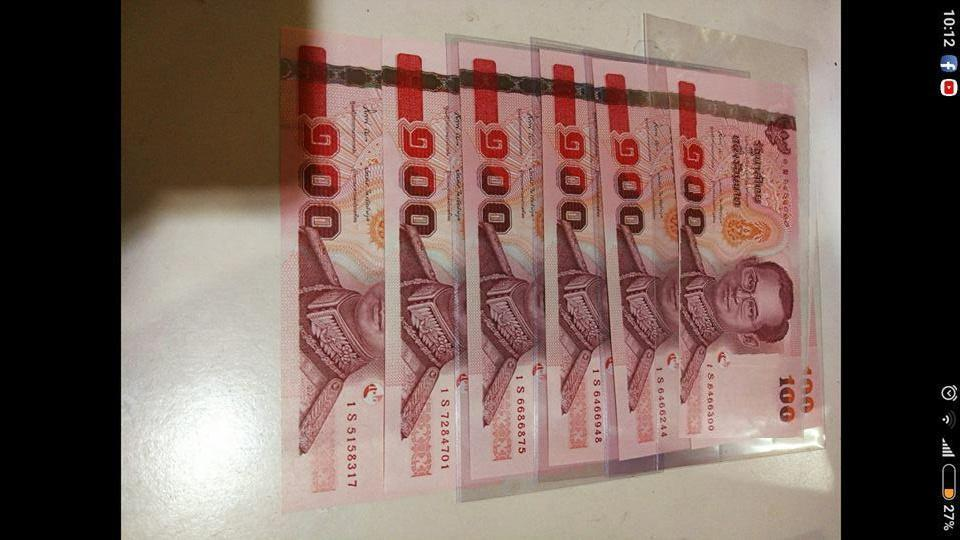100BahtTai: (679, 81, 824, 438)
